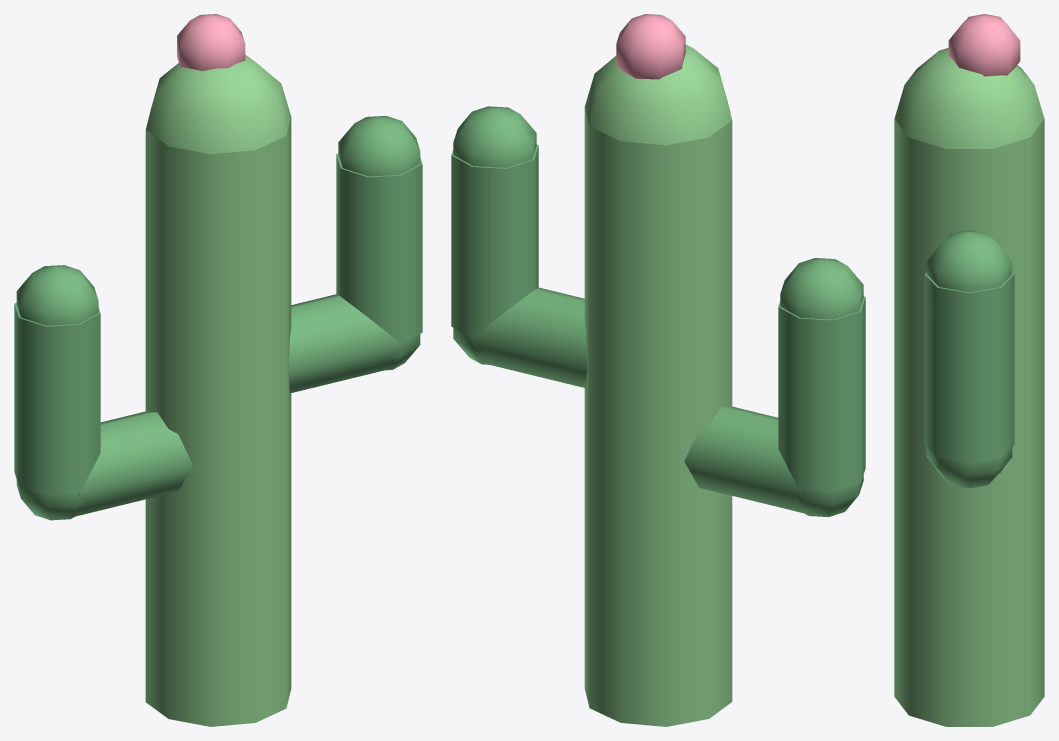
File: Desert_Cactus1.fbx
3 renders of one model, left to right at view 1: azimuth 30°, elevation 25°; view 2: azimuth 150°, elevation 25°; view 3: azimuth 270°, elevation 25°, orthographic.
Visible parts, largest first — view 1: Desert_Cactus1; view 2: Desert_Cactus1; view 3: Desert_Cactus1.
Part boxes in pixels (bbox=[...]): Desert_Cactus1: bbox=[14, 14, 422, 726]; Desert_Cactus1: bbox=[451, 14, 865, 726]; Desert_Cactus1: bbox=[894, 14, 1044, 726].
Bounding box in the file's own units: 2.17 × 3.5 × 0.7.
